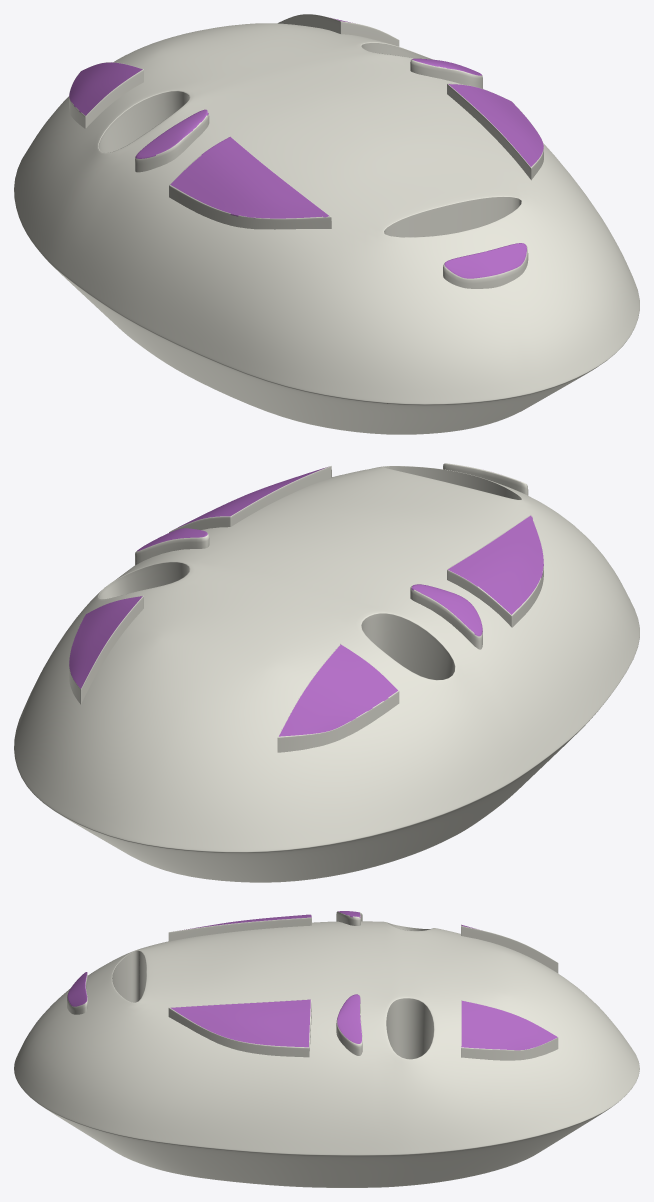
Rendered from kaonashi_face.fbx.
3 views of the same model, one above another, from view 1: azimuth 30°, elevation 25°; view 2: azimuth 150°, elevation 25°; view 3: azimuth 270°, elevation 25° (orthographic). The views are drawn at different scales.
Visible parts, largest first — view 1: Kaonashi_face; view 2: Kaonashi_face; view 3: Kaonashi_face.
Boxes of the visible parts, x1=… form: Kaonashi_face: x1=14, y1=14, x2=639, y2=434; Kaonashi_face: x1=14, y1=463, x2=639, y2=882; Kaonashi_face: x1=14, y1=911, x2=639, y2=1187.
Size of the model in its own units: 2123 by 956 by 3233.
